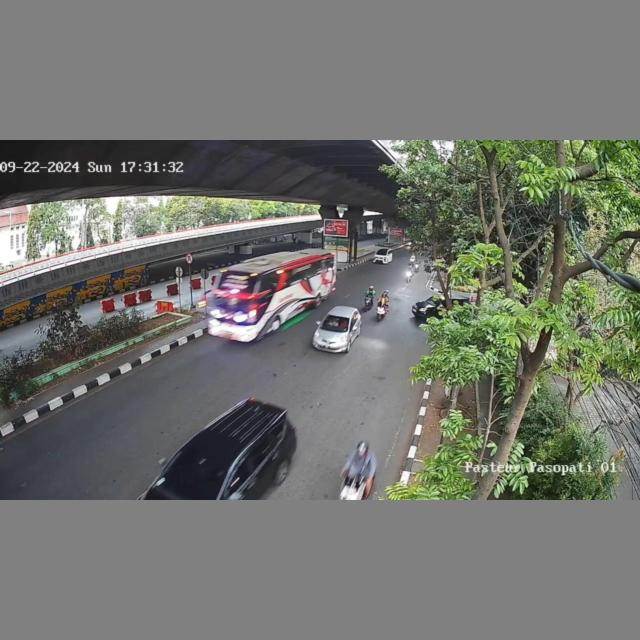windshield: (322, 315, 351, 332)
